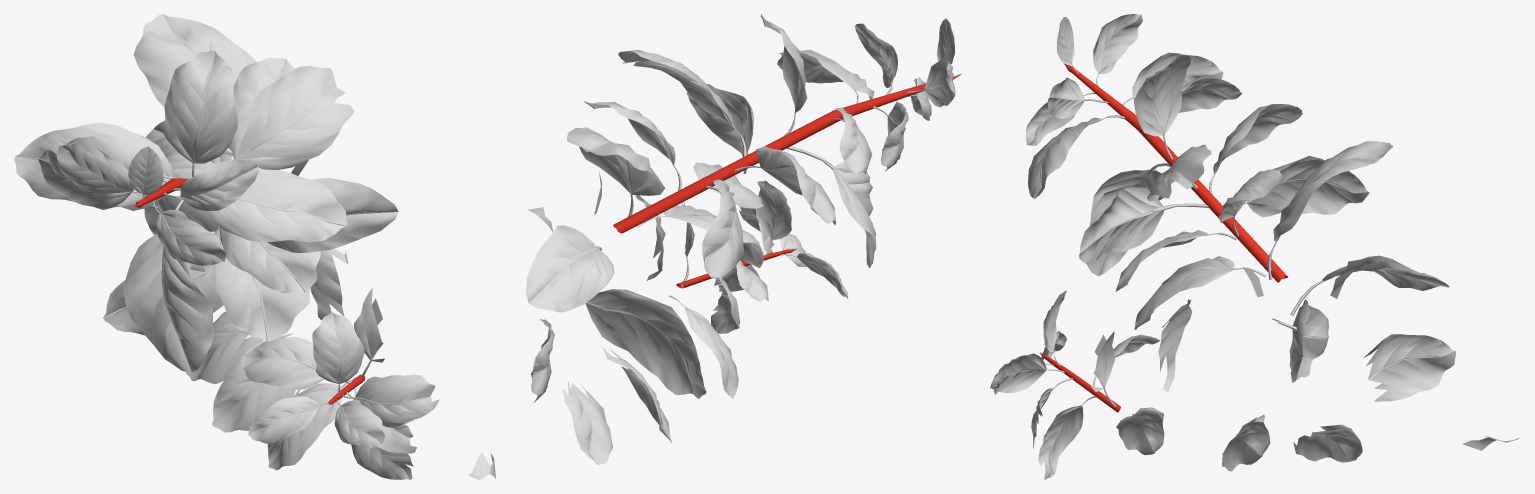
Rendered from Ficus.fbx.
3 renders of one model, left to right at view 1: azimuth 30°, elevation 25°; view 2: azimuth 150°, elevation 25°; view 3: azimuth 270°, elevation 25°, orthographic. The views are drawn at different scales.
Parts seen in each view (by area): view 1: Ficus; view 2: Ficus; view 3: Ficus.
Boxes of the visible parts, <box> form: Ficus: <box>14,14,439,479</box>; Ficus: <box>468,14,961,479</box>; Ficus: <box>990,14,1519,479</box>.
Bounding box in the file's own units: 5.25 × 8.47 × 6.77.
